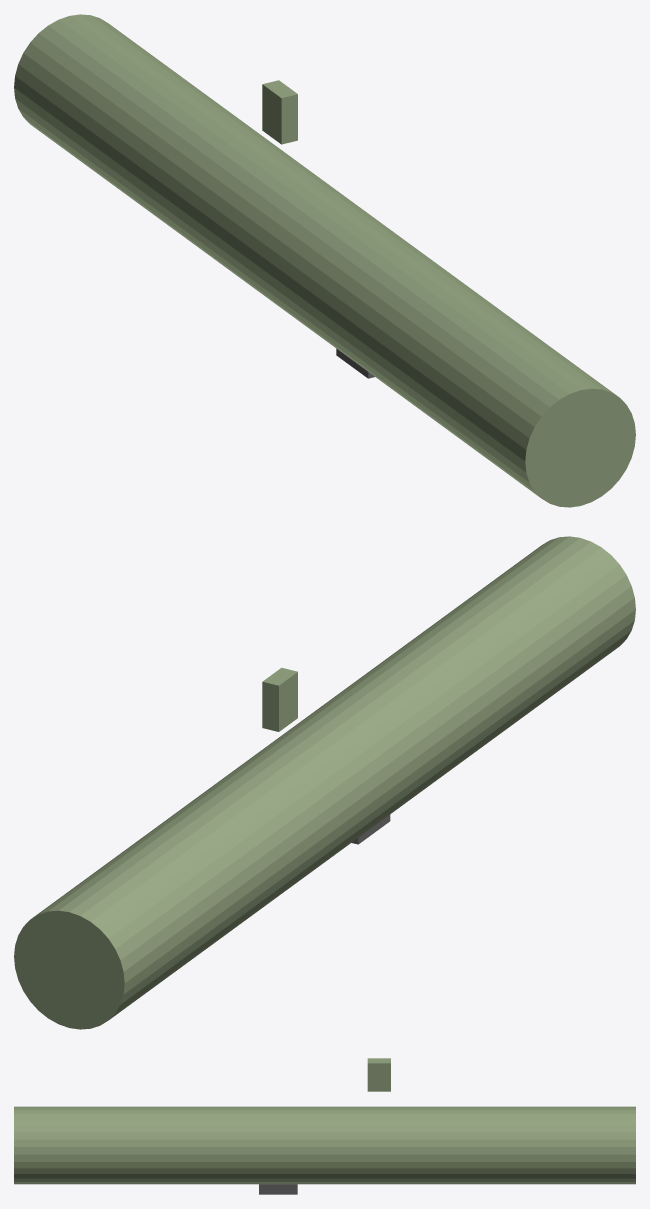
The model's file is bazooka.glb.
3 views of the same model, one above another, from view 1: azimuth 30°, elevation 25°; view 2: azimuth 150°, elevation 25°; view 3: azimuth 270°, elevation 25° (orthographic). The views are drawn at different scales.
Visible parts, largest first — view 1: Tube, Sight; view 2: Tube, Sight; view 3: Tube, Sight, Grip.
Part boxes in pixels (left/top/right/bottom): Tube: left=14, top=14, right=635, bottom=507; Sight: left=262, top=80, right=297, bottom=144; Tube: left=14, top=536, right=635, bottom=1029; Sight: left=262, top=667, right=297, bottom=731; Tube: left=14, top=1106, right=635, bottom=1184; Sight: left=367, top=1058, right=390, bottom=1091; Grip: left=259, top=1184, right=297, bottom=1194.
Bounding box in the file's own units: 0.1 × 0.185 × 0.8.
